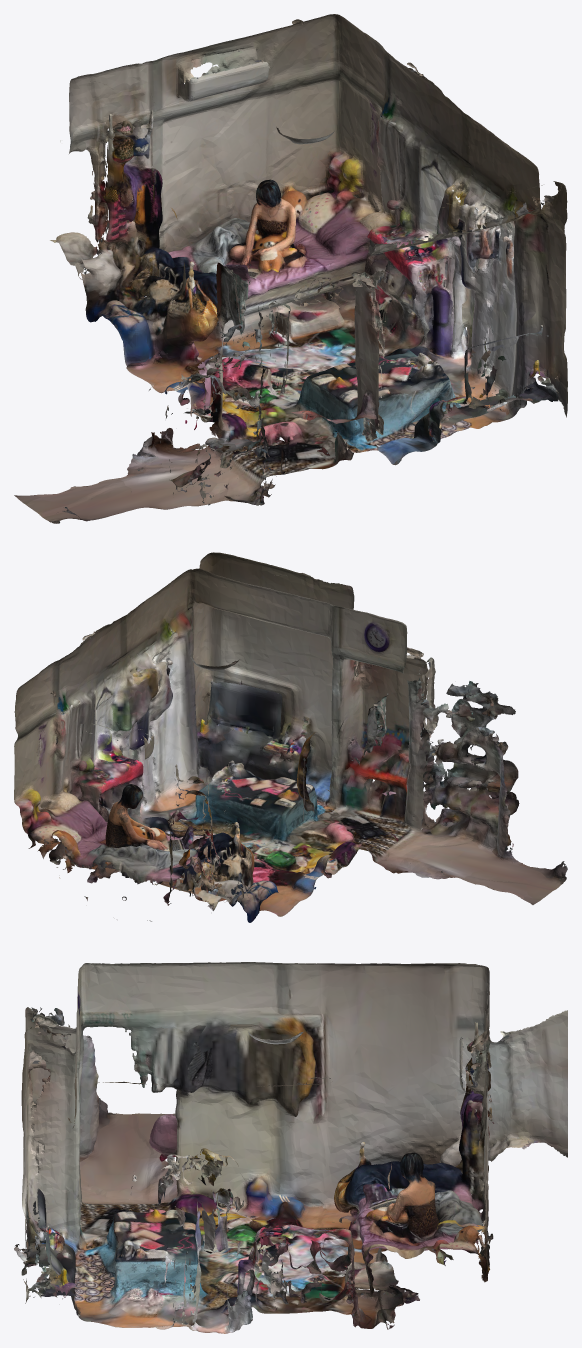
Rendered from YUNA WEB.glb.
3 views of the same model, one above another, from view 1: azimuth 30°, elevation 25°; view 2: azimuth 150°, elevation 25°; view 3: azimuth 270°, elevation 25° (orthographic). The views are drawn at different scales.
Parts seen in each view (by area): view 1: mesh; view 2: mesh; view 3: mesh.
Part boxes in pixels (left/top/right/bottom): mesh: left=14, top=14, right=567, bottom=523; mesh: left=14, top=552, right=567, bottom=922; mesh: left=14, top=962, right=567, bottom=1333.
Size of the model in its own units: 4.8 by 2.51 by 4.82.
1 material, 1 textured.
